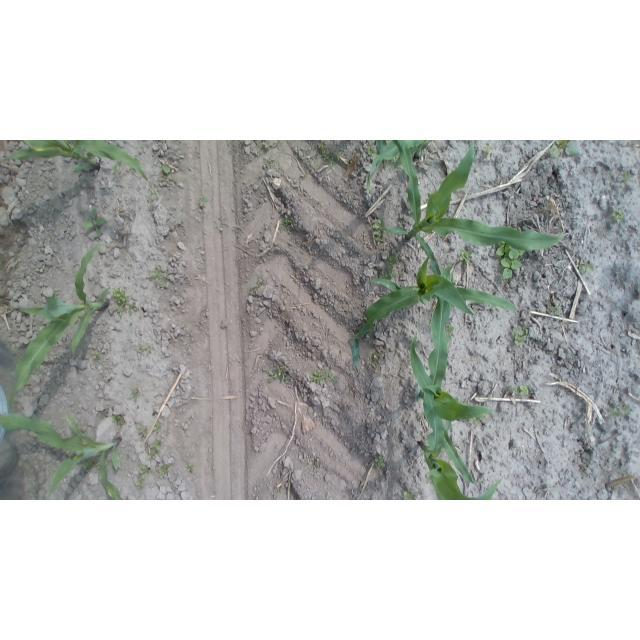Maize: (383, 141, 567, 310), (410, 264, 509, 488), (7, 241, 113, 407), (349, 253, 519, 343), (0, 412, 126, 500), (417, 394, 503, 500), (0, 141, 152, 187), (366, 140, 433, 202)
Weeds: (496, 241, 527, 282), (109, 288, 139, 317), (259, 363, 293, 386), (82, 208, 106, 238), (308, 365, 340, 385), (549, 140, 580, 160), (315, 142, 340, 166), (149, 264, 171, 288), (371, 216, 387, 248), (511, 326, 532, 347), (158, 161, 174, 187), (608, 403, 632, 419), (278, 213, 295, 234), (457, 248, 473, 265), (610, 208, 626, 225), (399, 488, 421, 500), (258, 141, 282, 152), (129, 385, 144, 402), (251, 279, 266, 296), (547, 299, 561, 317), (387, 253, 401, 271), (157, 463, 174, 477), (577, 261, 594, 275), (373, 454, 387, 470), (515, 384, 532, 397), (445, 325, 456, 345), (139, 342, 153, 356), (139, 463, 151, 479), (110, 163, 126, 175), (149, 185, 160, 202), (262, 158, 279, 169), (200, 194, 214, 207), (381, 269, 396, 281), (151, 440, 164, 453), (83, 458, 96, 471), (368, 352, 381, 365), (481, 145, 496, 156), (473, 414, 486, 426), (111, 413, 124, 425), (184, 461, 196, 474), (581, 464, 595, 475), (138, 426, 150, 438), (366, 144, 377, 157), (146, 449, 158, 460), (311, 458, 322, 470), (152, 422, 162, 435), (92, 351, 103, 362), (623, 170, 633, 182), (297, 171, 307, 181), (136, 481, 145, 492), (216, 226, 225, 235), (385, 157, 395, 165), (272, 489, 279, 499), (495, 164, 503, 172)
